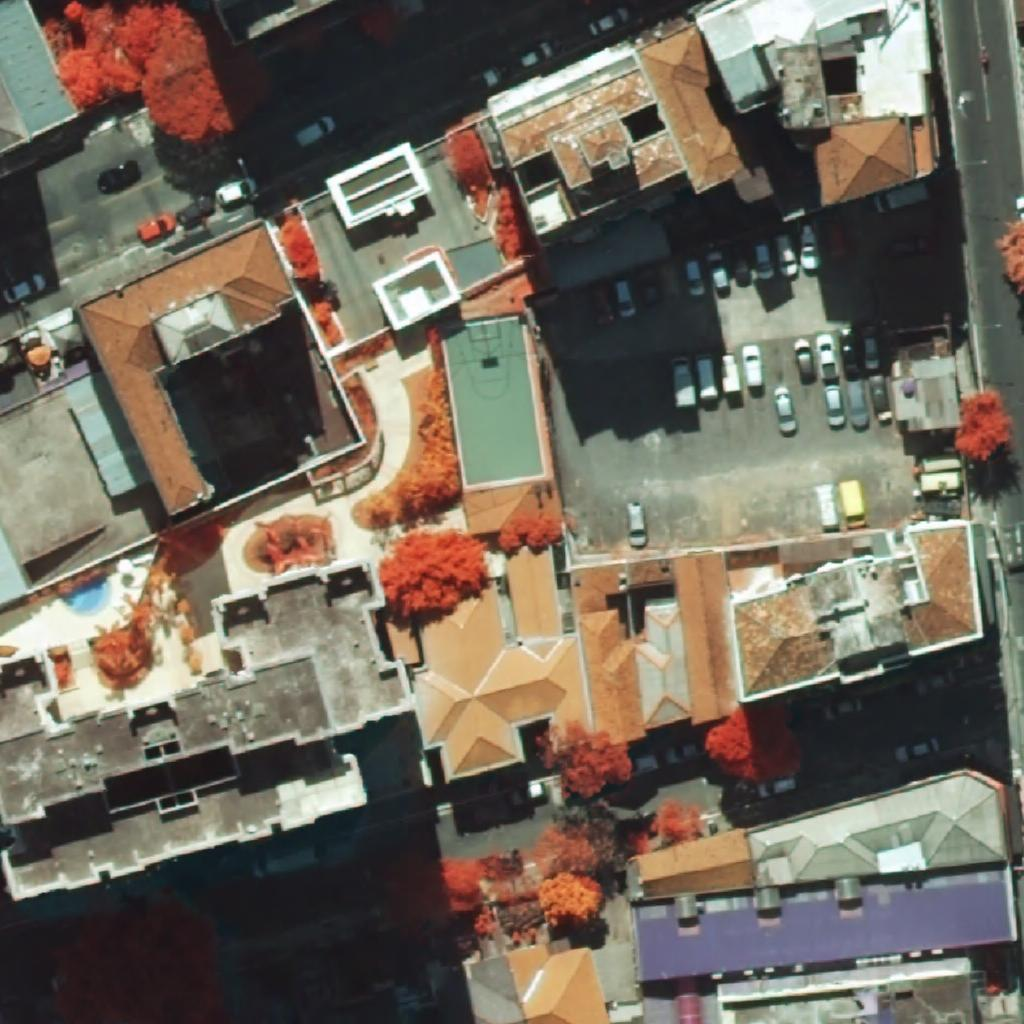pool: (62, 578, 108, 613)
